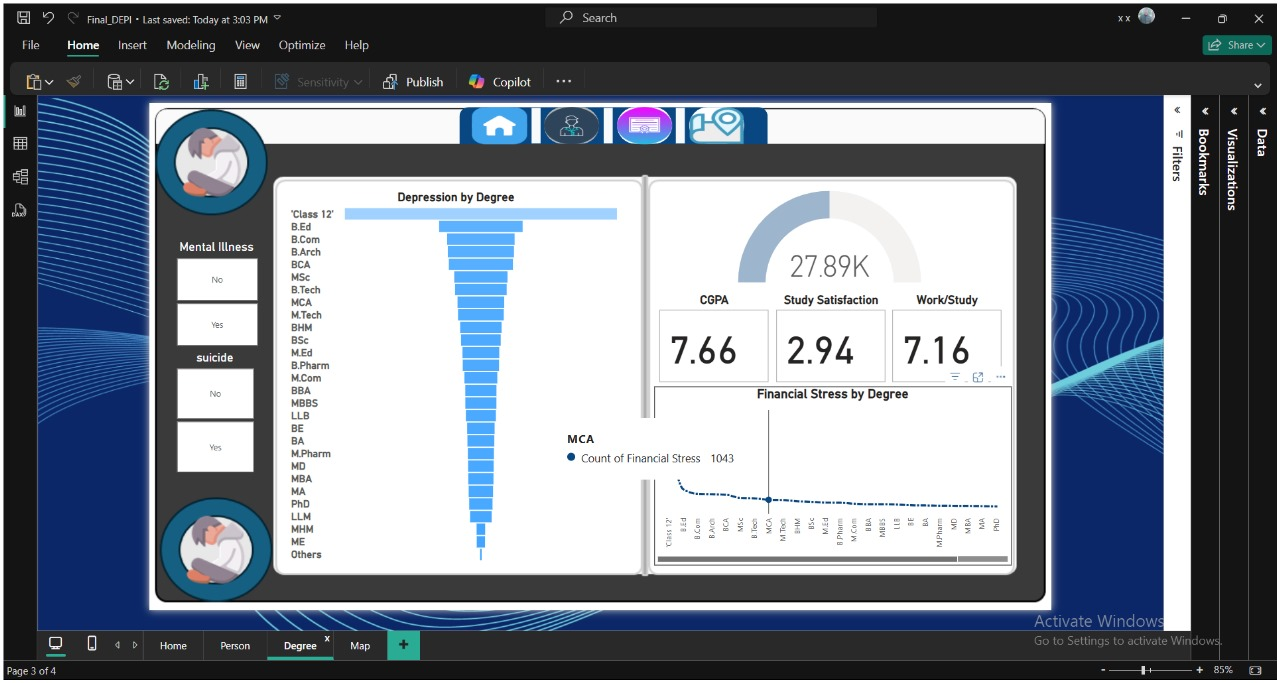

What the dashboard file says about the page in this screenshot:
{"tool":"powerbi","page":{"name":"Degree","canvas":[1280,720],"ordinal":2},"visuals":[{"type":"gauge","fields":{"Y":["CountNonNull(Final_dep_stud (2).Depression)"]},"box":[716.6,120.2,498.2,139.9],"z":0},{"type":"funnel","title":"Depression by Degree","fields":{"Category":["Final_dep_stud (2).Degree"],"Y":["CountNonNull(Final_dep_stud (2).Depression)"]},"box":[196.3,123.9,477.3,532.5],"z":1000},{"type":"cardVisual","title":"CGPA","fields":{"Data":["Avg(Final_dep_stud (2).CGPA)"]},"box":[718.5,269.9,165.6,132.5],"z":2000},{"type":"cardVisual","title":" Study Satisfaction","fields":{"Data":["Avg(Final_dep_stud (2).Study Satisfaction)"]},"box":[884.2,269.9,165.6,132.5],"z":3000},{"type":"cardVisual","title":"Work/Study","fields":{"Data":["Avg(Final_dep_stud (2).Work/Study Hours)"]},"box":[1049.8,269.9,165.6,132.5],"z":4000},{"type":"slicer","title":"suicide","fields":{"Values":["Final_dep_stud (2).Have you ever had suicidal thoughts ?"]},"box":[13.5,350.9,159.5,180.4],"z":9000},{"type":"slicer","title":"               Mental Illness","fields":{"Values":["Final_dep_stud (2).Mental Illness"]},"box":[13.5,193.9,164.4,157.1],"z":10000},{"type":"lineChart","title":"Financial Stress by Degree","fields":{"Category":["Final_dep_stud (2).Degree"],"Y":["CountNonNull(Final_dep_stud (2).Financial Stress)"]},"box":[716.6,402.5,506.8,254],"z":11000},{"type":"shape","box":[440,6.2,437.5,52.5],"z":11001},{"type":"shape","box":[542.5,7.5,12.5,50],"z":11002},{"type":"actionButton","box":[663.8,6.2,78.8,52.5],"z":11003},{"type":"actionButton","box":[457.5,6.2,78.8,52.5],"z":11004},{"type":"actionButton","box":[766.2,5.9,78.8,52.5],"z":11005},{"type":"actionButton","box":[560,6.2,78.8,52.5],"z":11006},{"type":"shape","box":[645,7.5,12.5,50],"z":11007},{"type":"shape","box":[747.5,7.5,12.5,50],"z":11008}]}

Visuals, with their boxes on the page's 1280x720 design canvas (x1, y1, x2, y2). These are canvas units, not pixel positions in the 1280x683 screenshot, which may show the page scaled, cropped or inside an application window:
gauge - CountNonNull(Final_dep_stud (2).Depression): Rect(717, 120, 1215, 260)
"Depression by Degree" funnel: Rect(196, 124, 674, 656)
"CGPA" cardVisual: Rect(718, 270, 884, 402)
" Study Satisfaction" cardVisual: Rect(884, 270, 1050, 402)
"Work/Study" cardVisual: Rect(1050, 270, 1215, 402)
"suicide" slicer: Rect(14, 351, 173, 531)
"               Mental Illness" slicer: Rect(14, 194, 178, 351)
"Financial Stress by Degree" lineChart: Rect(717, 402, 1223, 656)
shape: Rect(440, 6, 878, 59)
shape: Rect(542, 8, 555, 58)
actionButton: Rect(664, 6, 743, 59)
actionButton: Rect(458, 6, 536, 59)
actionButton: Rect(766, 6, 845, 58)
actionButton: Rect(560, 6, 639, 59)
shape: Rect(645, 8, 658, 58)
shape: Rect(748, 8, 760, 58)
